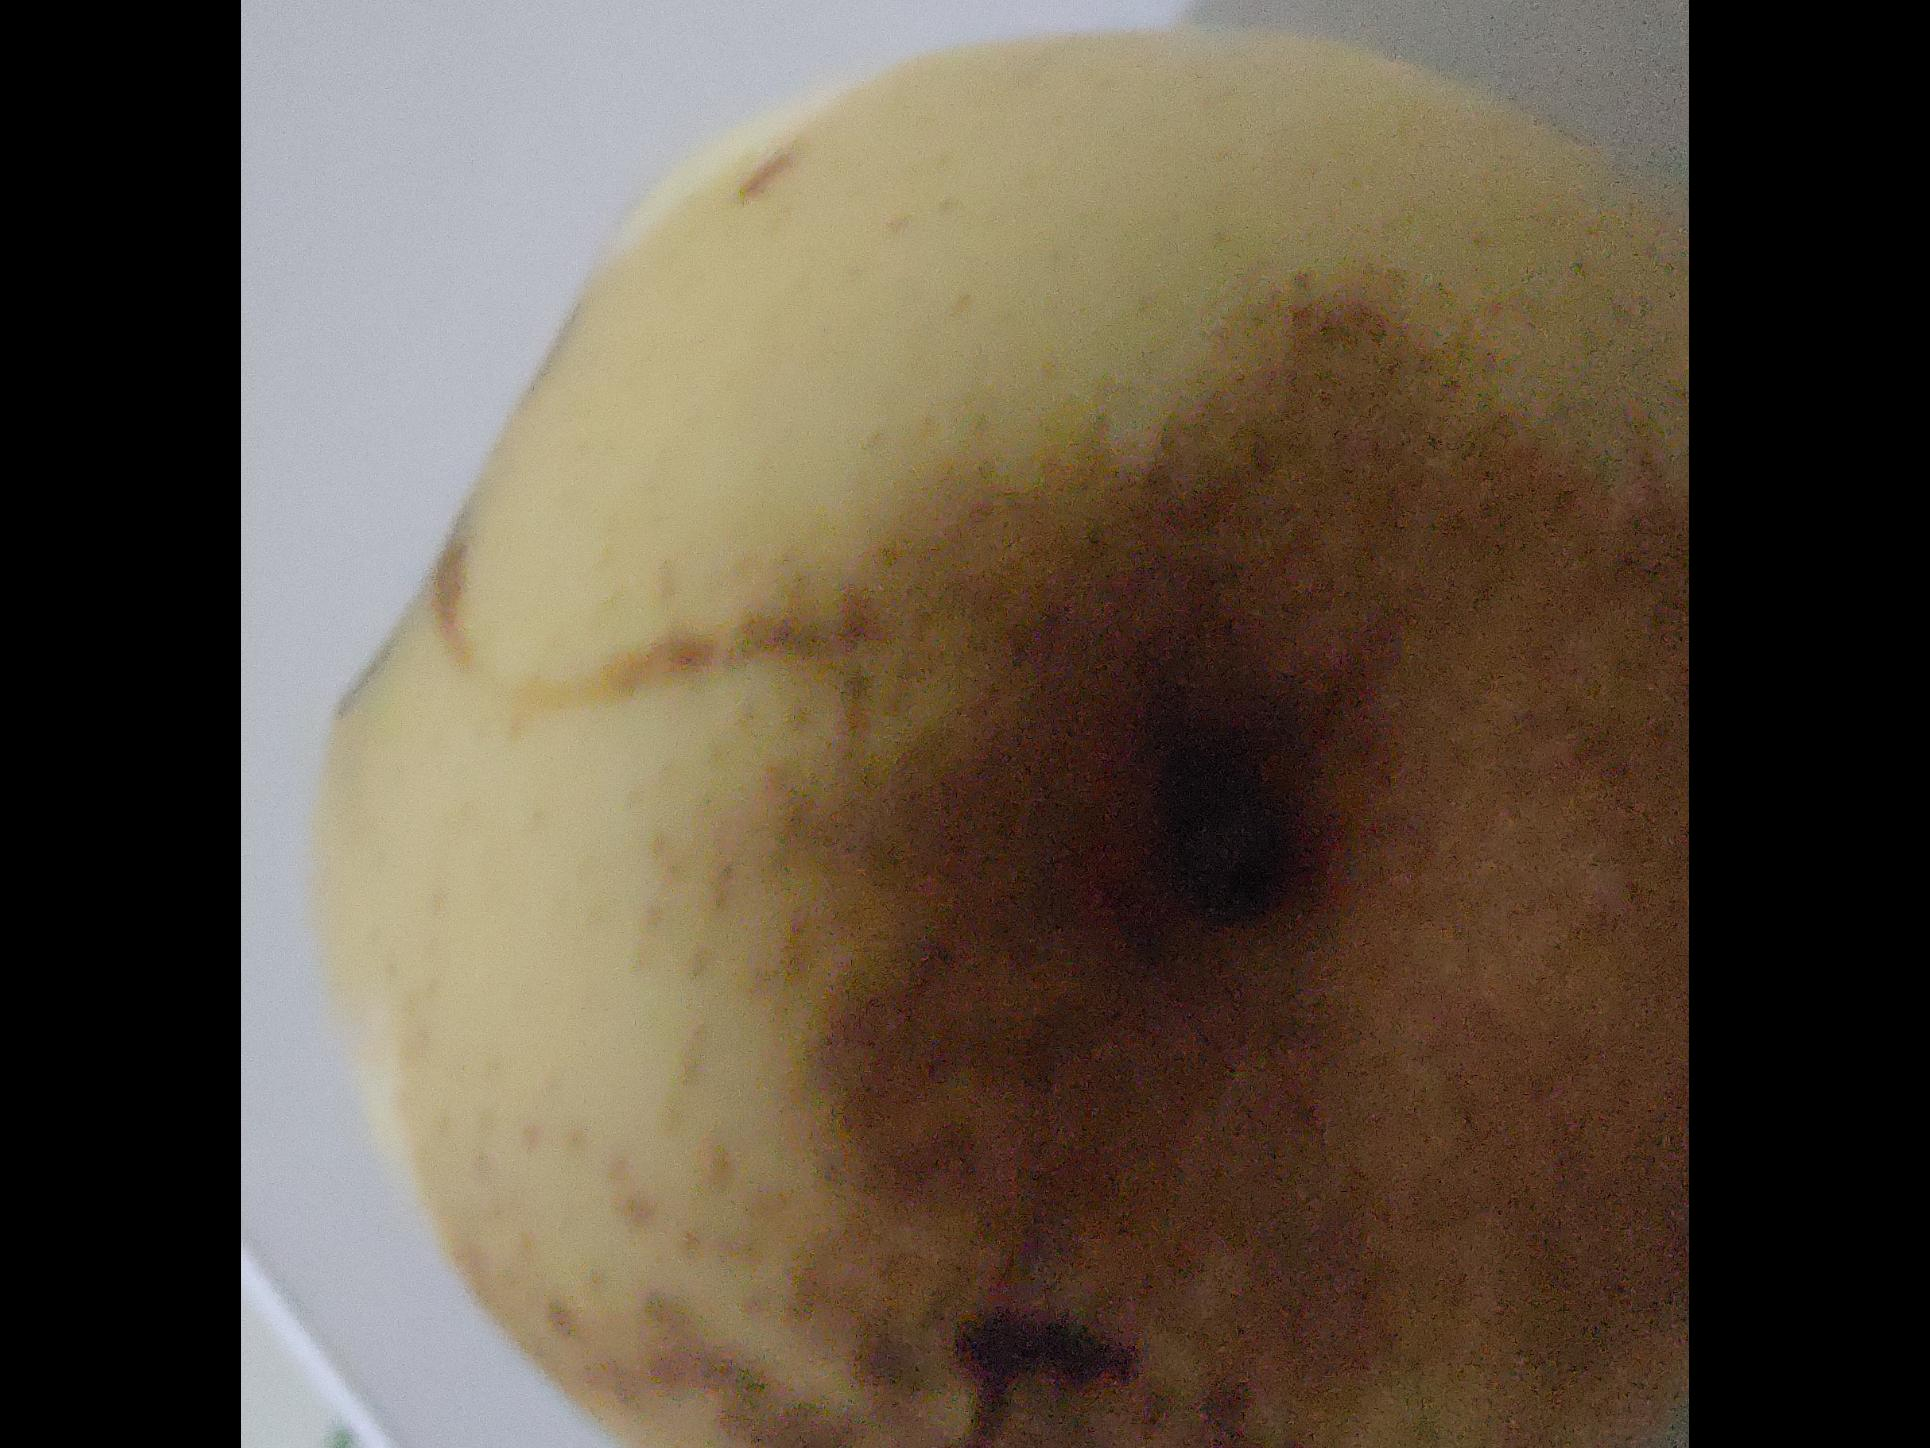Bad Pear: (275, 12, 1690, 1448)
